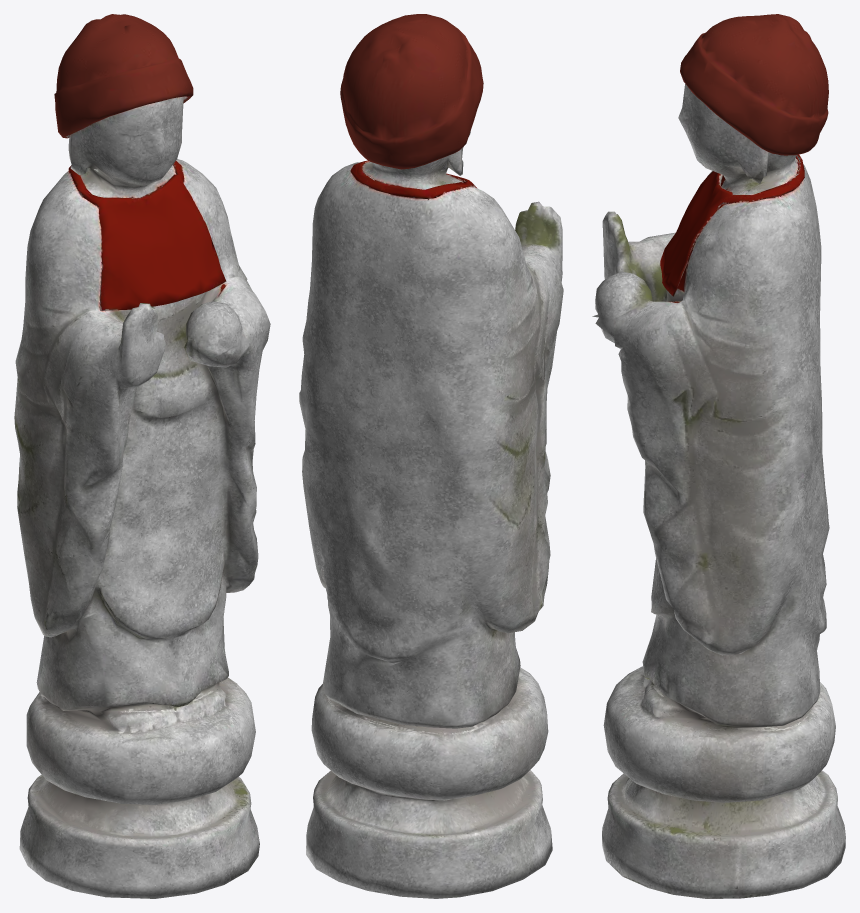
The model's file is arhat-kasa-2.glb.
3 views of the same model, side by side, from view 1: azimuth 30°, elevation 25°; view 2: azimuth 150°, elevation 25°; view 3: azimuth 270°, elevation 25° (orthographic). The views are drawn at different scales.
Parts seen in each view (by area): view 1: arhat-kasa-2-low; view 2: arhat-kasa-2-low; view 3: arhat-kasa-2-low.
Boxes of the visible parts, <box> form: arhat-kasa-2-low: <box>14,14,270,898</box>; arhat-kasa-2-low: <box>299,14,563,898</box>; arhat-kasa-2-low: <box>592,14,845,898</box>.
Bounding box in the file's own units: 0.2673 × 1 × 0.2778.
1 material, 1 textured.
